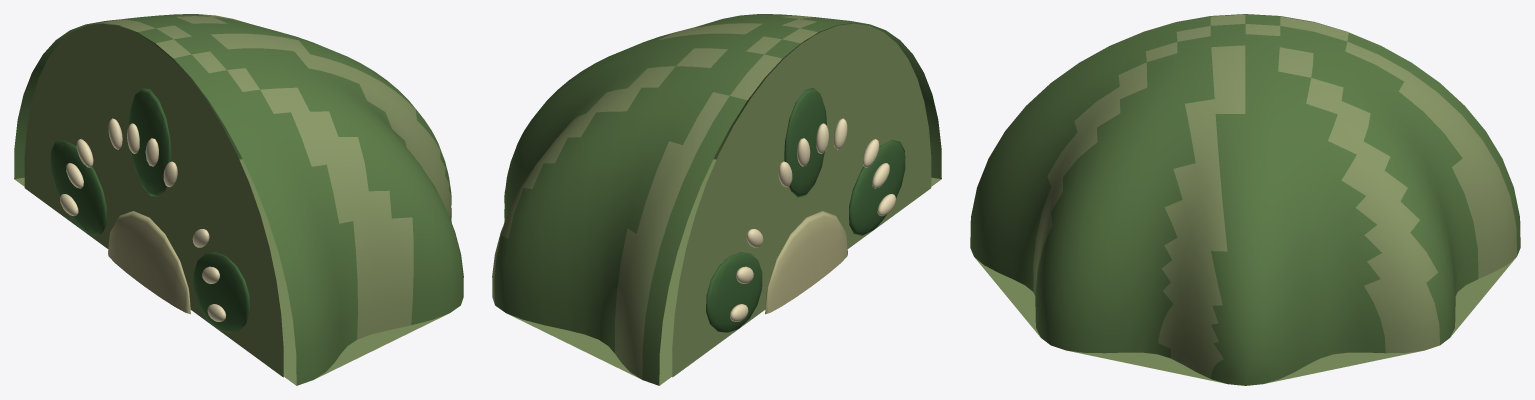
Rendered from event_rainbow_sage_wedge.glb.
3 renders of one model, left to right at view 1: azimuth 30°, elevation 25°; view 2: azimuth 150°, elevation 25°; view 3: azimuth 270°, elevation 25°, orthographic. The views are drawn at different scales.
Parts seen in each view (by area): view 1: sage archive sage heirloom skin / Sage pale longitudinal pin, sage archive sage moist cut flesh, sage archive sage seed chambers, sage archive sage pale pith / sage moist cut flesh, sage archive Ivory archive seeds; view 2: sage archive sage heirloom skin / Sage pale longitudinal pin, sage archive sage moist cut flesh, sage archive sage seed chambers, sage archive sage pale pith / sage moist cut flesh, sage archive Ivory archive seeds; view 3: sage archive sage heirloom skin / Sage pale longitudinal pin.
Boxes of the visible parts, bbox=[...] form: sage archive sage heirloom skin / Sage pale longitudinal pin: bbox=[14, 14, 463, 385]; sage archive sage moist cut flesh: bbox=[24, 23, 283, 377]; sage archive sage seed chambers: bbox=[50, 88, 249, 332]; sage archive sage pale pith / sage moist cut flesh: bbox=[108, 211, 190, 314]; sage archive Ivory archive seeds: bbox=[60, 118, 225, 321]; sage archive sage heirloom skin / Sage pale longitudinal pin: bbox=[492, 14, 941, 385]; sage archive sage moist cut flesh: bbox=[672, 23, 931, 377]; sage archive sage seed chambers: bbox=[706, 88, 905, 332]; sage archive sage pale pith / sage moist cut flesh: bbox=[765, 211, 847, 314]; sage archive Ivory archive seeds: bbox=[730, 118, 895, 321]; sage archive sage heirloom skin / Sage pale longitudinal pin: bbox=[970, 14, 1520, 385].
Size of the model in its own units: 0.7287 by 0.54 by 1.16.
